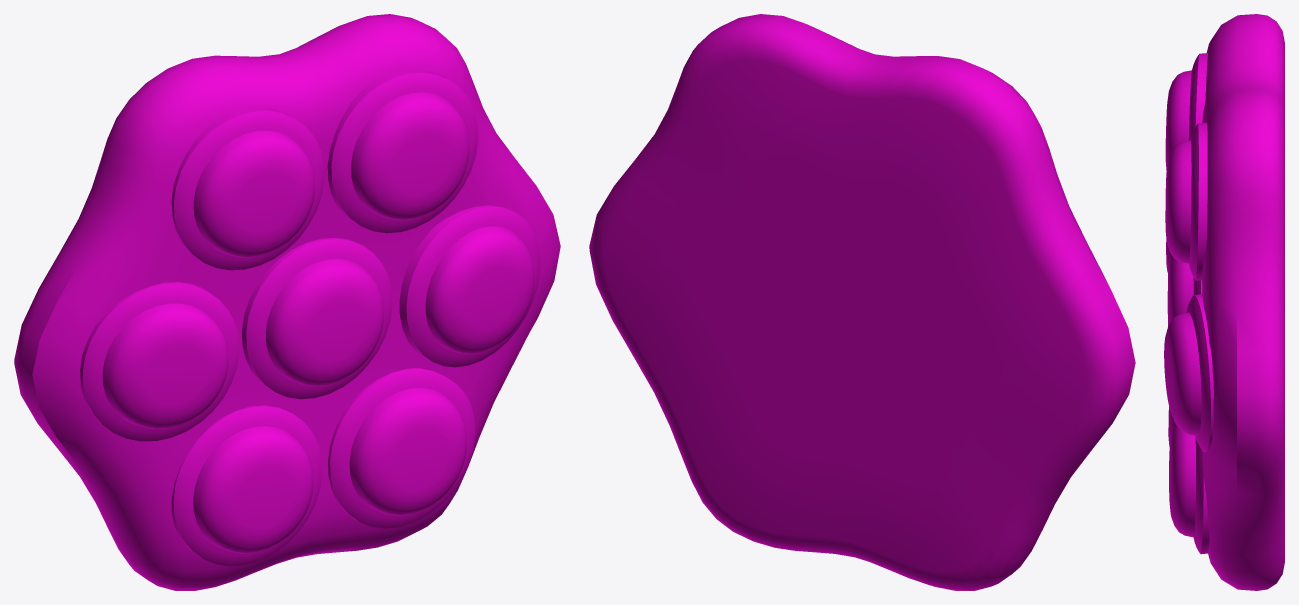
Rendered from morseker.fbx.
The picture shows the model from 3 angles, left to right: view 1: azimuth 30°, elevation 25°; view 2: azimuth 150°, elevation 25°; view 3: azimuth 270°, elevation 25°; orthographic projection. The views are drawn at different scales.
Visible parts, largest first — view 1: morseker; view 2: morseker; view 3: morseker.
Part boxes in pixels (box(x1,y1,x2,y2)): morseker: box(14, 14, 560, 590); morseker: box(589, 14, 1135, 590); morseker: box(1164, 14, 1284, 590).
Bounding box in the file's own units: 73.4 × 68.49 × 15.63.
